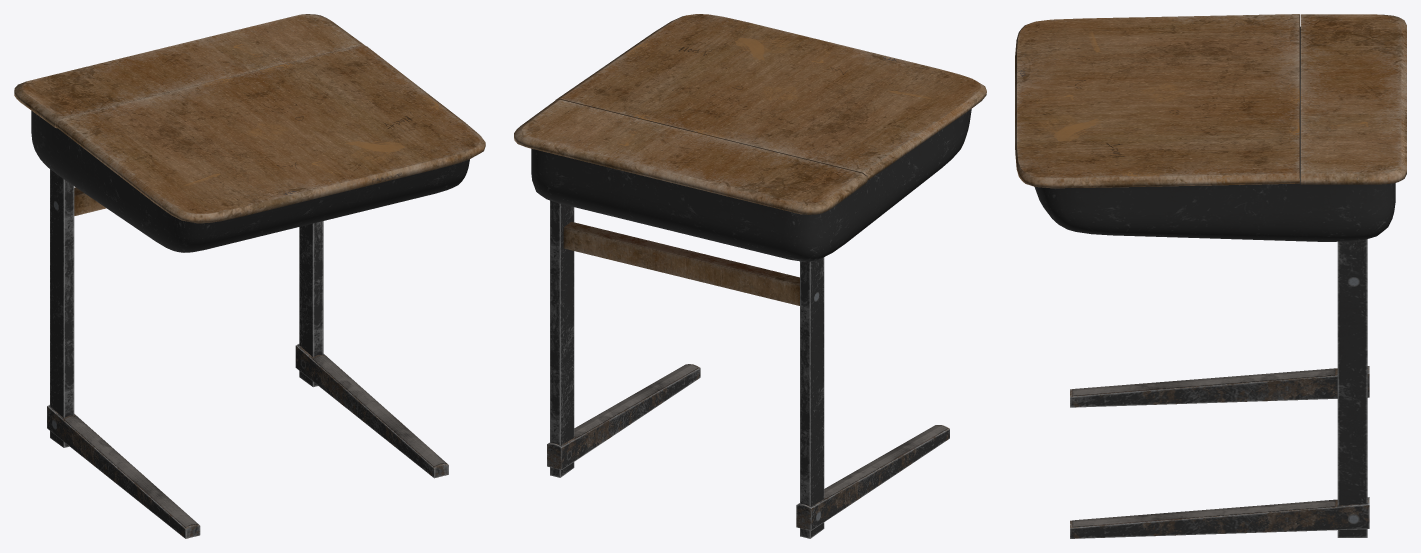
Rendered from desk.glb.
3 views of the same model, side by side, from view 1: azimuth 30°, elevation 25°; view 2: azimuth 150°, elevation 25°; view 3: azimuth 270°, elevation 25° (orthographic). The views are drawn at different scales.
Parts seen in each view (by area): view 1: main_plank_low, small_plank_low, main_metal_low, legs_low, foot_low, metal_plate_low; view 2: main_plank_low, main_metal_low, small_plank_low, legs_low, weld_low, foot_low, metal_plate_low; view 3: main_plank_low, main_metal_low, small_plank_low, foot_low, legs_low, metal_plate_low.
Boxes of the visible parts, x1,y1,x2,y2 form: main_plank_low: (55, 45, 485, 223); small_plank_low: (14, 14, 365, 128); main_metal_low: (31, 111, 469, 252); legs_low: (50, 169, 323, 447); foot_low: (47, 344, 448, 538); metal_plate_low: (64, 355, 446, 527); main_plank_low: (555, 14, 986, 180); main_metal_low: (531, 109, 971, 261); small_plank_low: (514, 99, 867, 214); legs_low: (550, 200, 824, 538); weld_low: (563, 221, 799, 305); foot_low: (547, 364, 949, 530); metal_plate_low: (574, 364, 947, 498); main_plank_low: (1015, 14, 1299, 188); main_metal_low: (1034, 26, 1395, 241); small_plank_low: (1300, 14, 1406, 184); foot_low: (1070, 366, 1369, 538); legs_low: (1337, 239, 1367, 537); metal_plate_low: (1072, 368, 1335, 527).
Size of the model in its own units: 105 by 112 by 105.
Materials: 1 (1 with a texture image).
